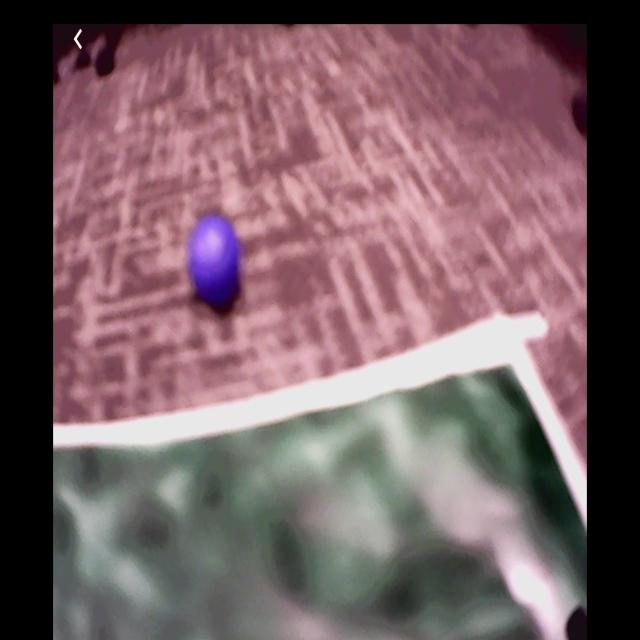ball: (188, 214, 241, 304)
